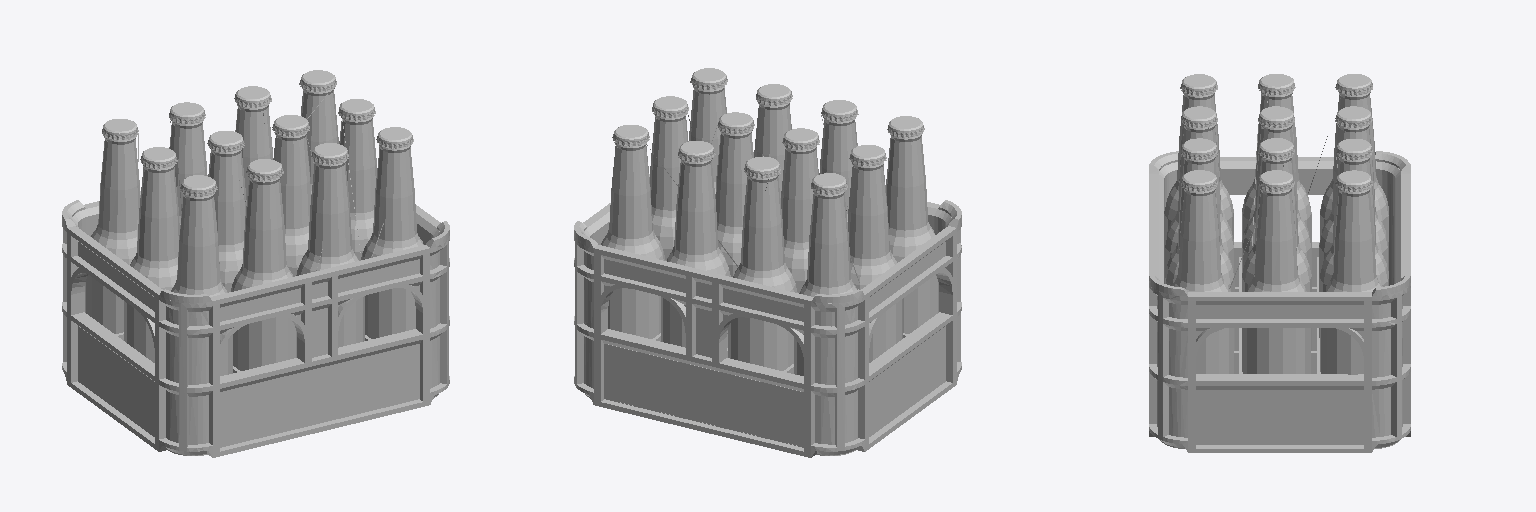
The model's file is duffcase.obj.
3 renders of one model, left to right at view 1: azimuth 30°, elevation 25°; view 2: azimuth 150°, elevation 25°; view 3: azimuth 270°, elevation 25°, orthographic.
Parts seen in each view (by area): view 1: model_2, model_1; view 2: model_2, model_1; view 3: model_1, model_2.
Part boxes in pixels (x1,y1,x2,y2): model_2: (85, 70, 423, 375); model_1: (62, 191, 449, 457); model_2: (601, 68, 938, 375); model_1: (574, 174, 961, 457); model_1: (1149, 151, 1410, 452); model_2: (1164, 74, 1388, 374).
Bounding box in the file's own units: 4.48 × 3.83 × 3.57.